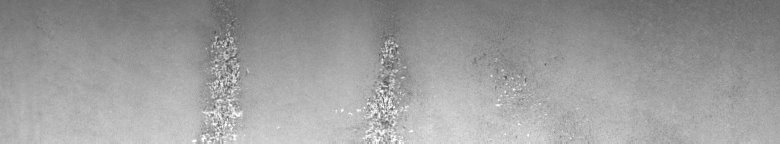hc: (341, 32, 416, 136)
